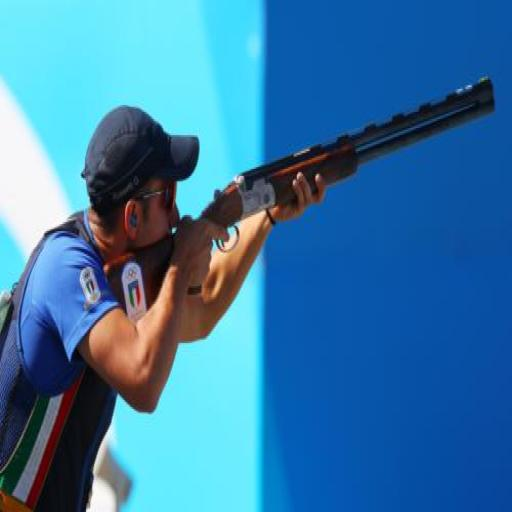shooting: (0, 102, 329, 510)
